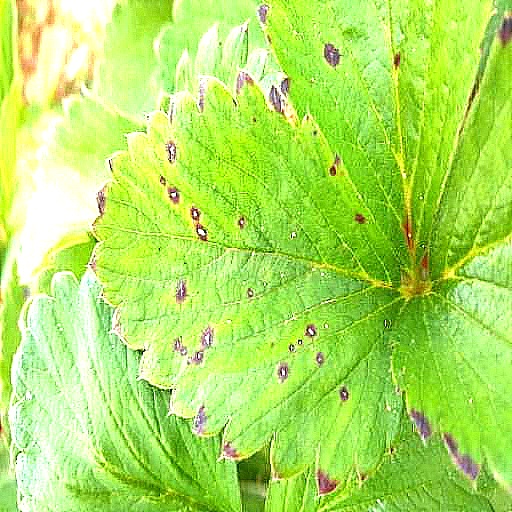Leaf Spot: (95, 67, 426, 499), (16, 0, 255, 281)
